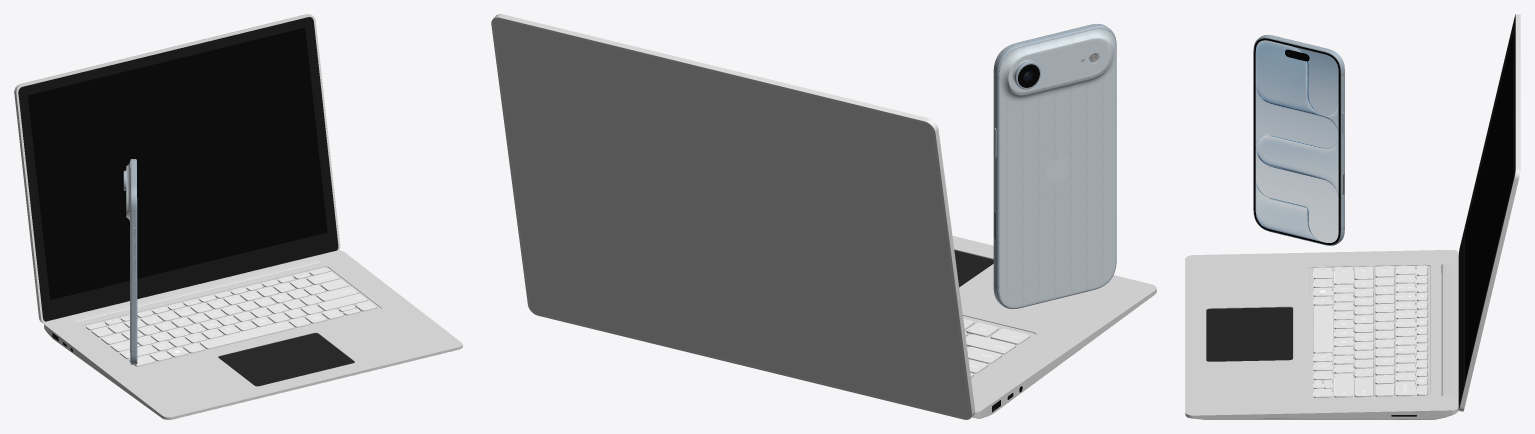
File: iphone-laptop-scene.glb
The picture shows the model from 3 angles, left to right: view 1: azimuth 30°, elevation 25°; view 2: azimuth 150°, elevation 25°; view 3: azimuth 270°, elevation 25°; orthographic projection. The views are drawn at different scales.
Visible parts, largest first — view 1: Screen, Modern Slim Laptop, Screen Frame, Keyboard, UpKaGipWNvokUGf; view 2: Screen Frame, OJRMWDmWznngIRa, Modern Slim Laptop, OVsPzkwfIAnLrwQ, avktKcFMCgBNWOI, UpKaGipWNvokUGf, Keyboard; view 3: Modern Slim Laptop, tppzCQmnlKcHIpP, Keyboard, Screen, Screen Frame, UpKaGipWNvokUGf, iMtaIZldrieqomI.
Boxes of the visible parts, box(x1,y1,x2,y2) form: Screen: box(28, 28, 327, 299); Modern Slim Laptop: box(44, 250, 462, 419); Screen Frame: box(14, 14, 340, 323); Keyboard: box(86, 267, 376, 366); UpKaGipWNvokUGf: box(130, 159, 137, 364); Screen Frame: box(491, 14, 975, 419); OJRMWDmWznngIRa: box(999, 28, 1115, 307); Modern Slim Laptop: box(952, 235, 1156, 418); OVsPzkwfIAnLrwQ: box(1008, 38, 1112, 94); avktKcFMCgBNWOI: box(1008, 38, 1112, 159); UpKaGipWNvokUGf: box(993, 23, 1116, 308); Keyboard: box(963, 318, 1029, 377); Modern Slim Laptop: box(1185, 250, 1458, 419); tppzCQmnlKcHIpP: box(1255, 40, 1338, 242); Keyboard: box(1313, 265, 1427, 397); Screen: box(1464, 34, 1512, 380); Screen Frame: box(1458, 14, 1520, 411); UpKaGipWNvokUGf: box(1253, 35, 1344, 245); iMtaIZldrieqomI: box(1254, 38, 1340, 244).
Size of what is drawn, in the model's own units: 3.5 by 2.51 by 3.05.
44 materials, 11 textured.
